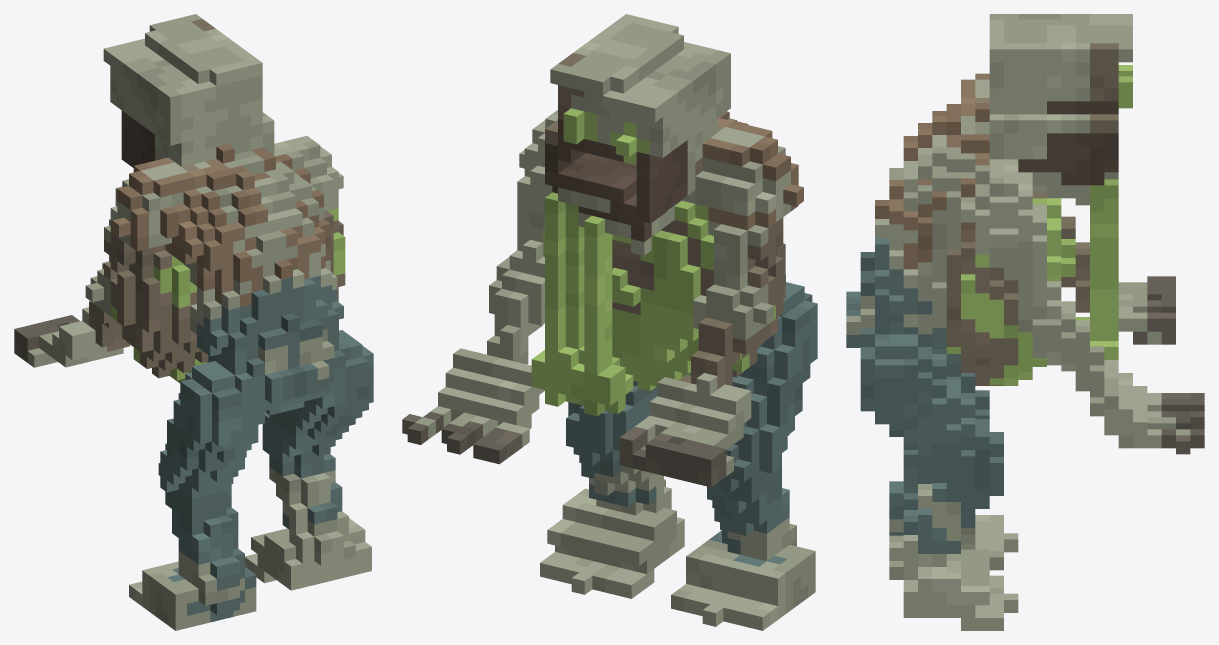
The model's file is acid_zombie.3.glb.
3 renders of one model, left to right at view 1: azimuth 30°, elevation 25°; view 2: azimuth 150°, elevation 25°; view 3: azimuth 270°, elevation 25°, orthographic. The views are drawn at different scales.
Parts seen in each view (by area): view 1: acid_zombie.3; view 2: acid_zombie.3; view 3: acid_zombie.3.
Part boxes in pixels (x1,y1,x2,y2): acid_zombie.3: (14,14,373,630); acid_zombie.3: (402,14,817,630); acid_zombie.3: (846,14,1204,630).
Size of the model in its own units: 0.9583 by 1.75 by 1.04.
